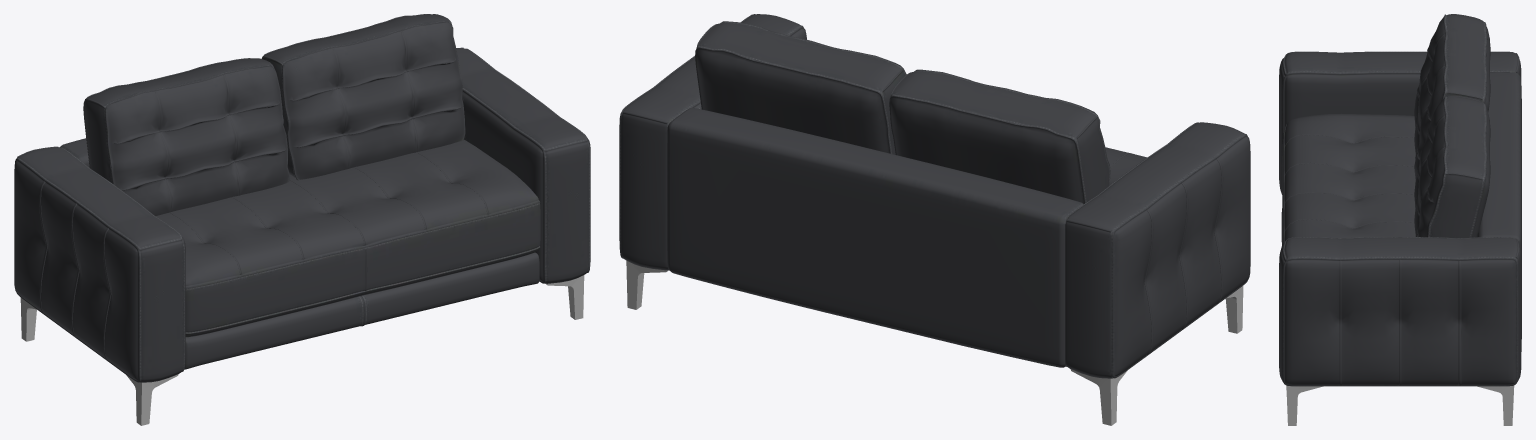
The model's file is abo-B07HPQYW8L.glb.
The picture shows the model from 3 angles, left to right: view 1: azimuth 30°, elevation 25°; view 2: azimuth 150°, elevation 25°; view 3: azimuth 270°, elevation 25°; orthographic projection. The views are drawn at different scales.
Bounding box in the file's own units: 1.73 × 0.893 × 0.833.
Materials: 1 (1 with a texture image).
